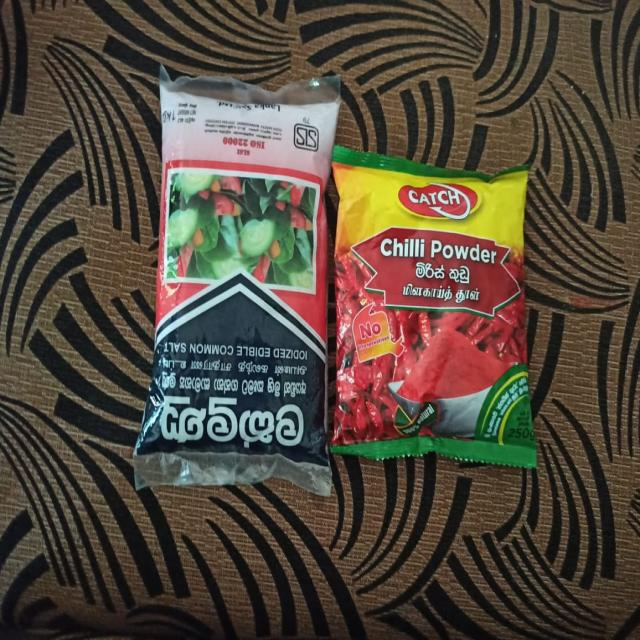Chilli Powder: (324, 139, 549, 471)
Lak Lunu: (118, 49, 342, 524)
